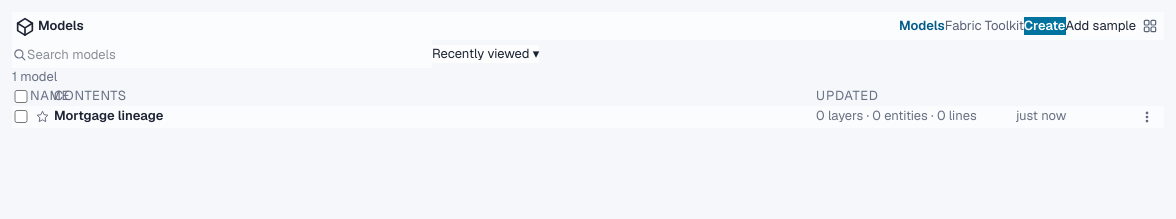
Scenario: ModelBrowser › expands a row to show its details
Expected: the text "Model ID" is not shown
Click the row body, not the name — the name opens the model.
Step 1. Click the text "0 layers · 0 entities · 0 lines" → x=896, y=116, box top-left (816, 107), bottom-right (977, 124)
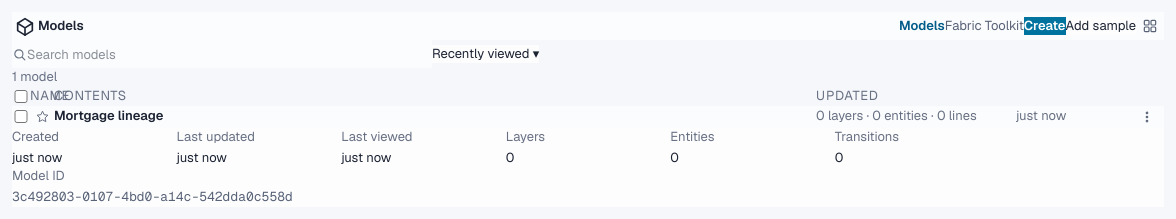
Now the text "Model ID" is shown, box top-left (12, 167), bottom-right (64, 184)
